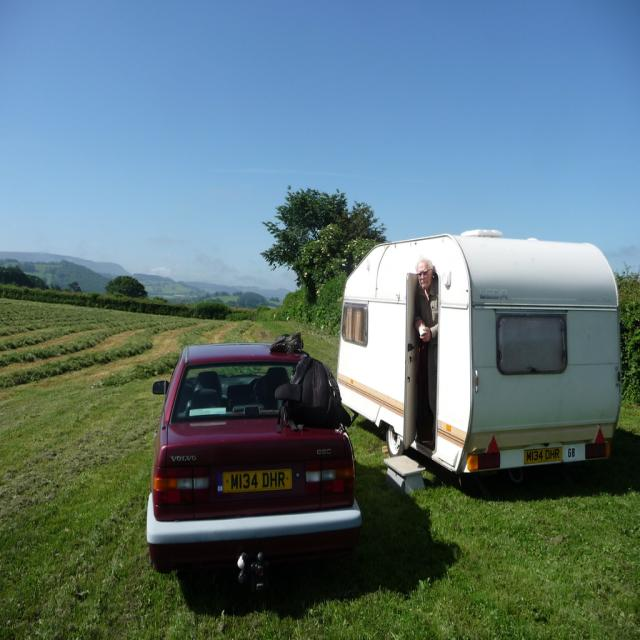Passenger Car: (146, 340, 362, 591)
